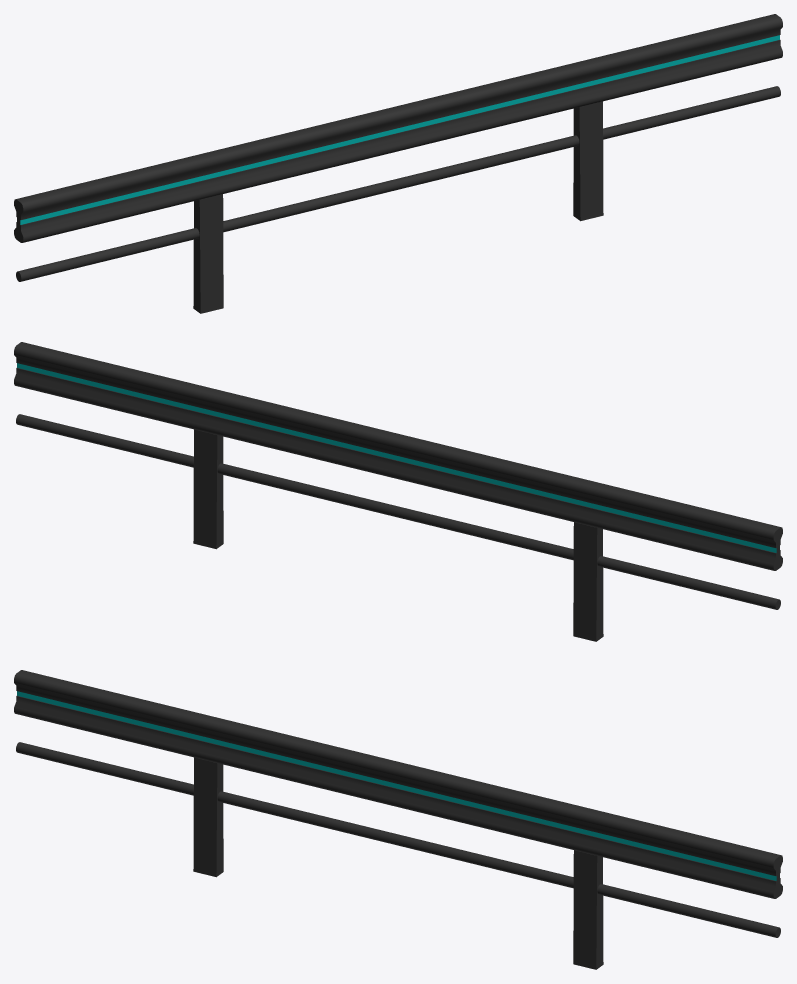
File: RoadBarrier.gltf
The picture shows the model from 3 angles, top to bottom: view 1: azimuth 30°, elevation 25°; view 2: azimuth 150°, elevation 25°; view 3: azimuth 330°, elevation 25°; orthographic projection.
Visible parts, largest first — view 1: SM_RoadBarrier_01; view 2: SM_RoadBarrier_01; view 3: SM_RoadBarrier_01.
Part boxes in pixels (bbox=[...]): SM_RoadBarrier_01: bbox=[14, 14, 782, 313]; SM_RoadBarrier_01: bbox=[14, 342, 782, 641]; SM_RoadBarrier_01: bbox=[14, 670, 782, 969].
Size of the model in its own units: 4.5 by 0.8696 by 0.0951.
